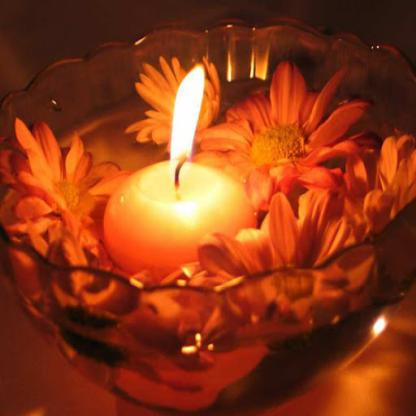fire: (164, 53, 210, 187)
